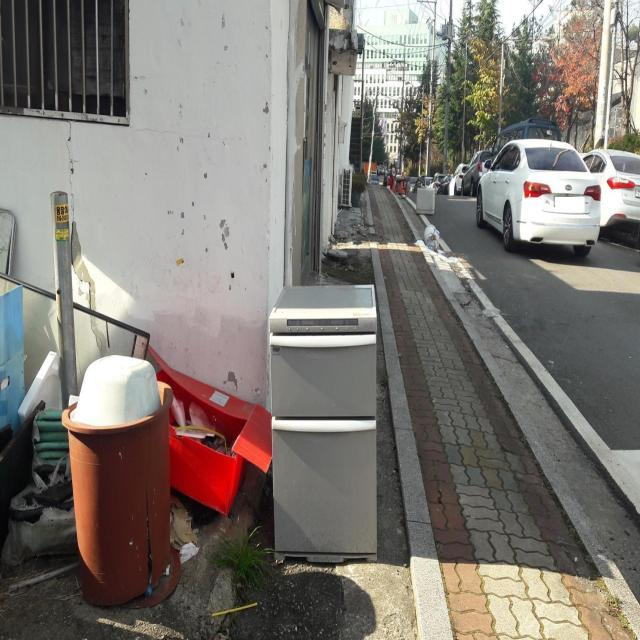refrigerator: (267, 279, 382, 568)
